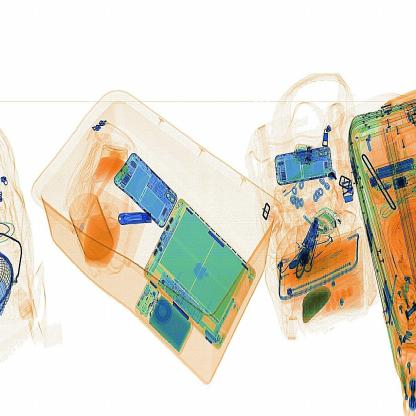knife: (111, 202, 160, 233)
